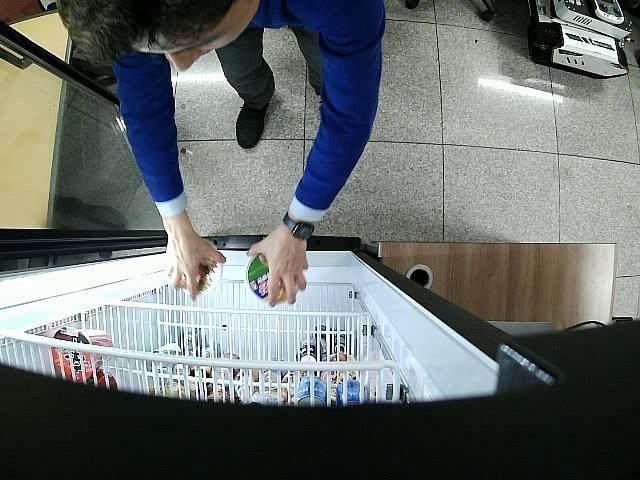09_yukGaeJang: (180, 240, 222, 294), (246, 252, 287, 300)
